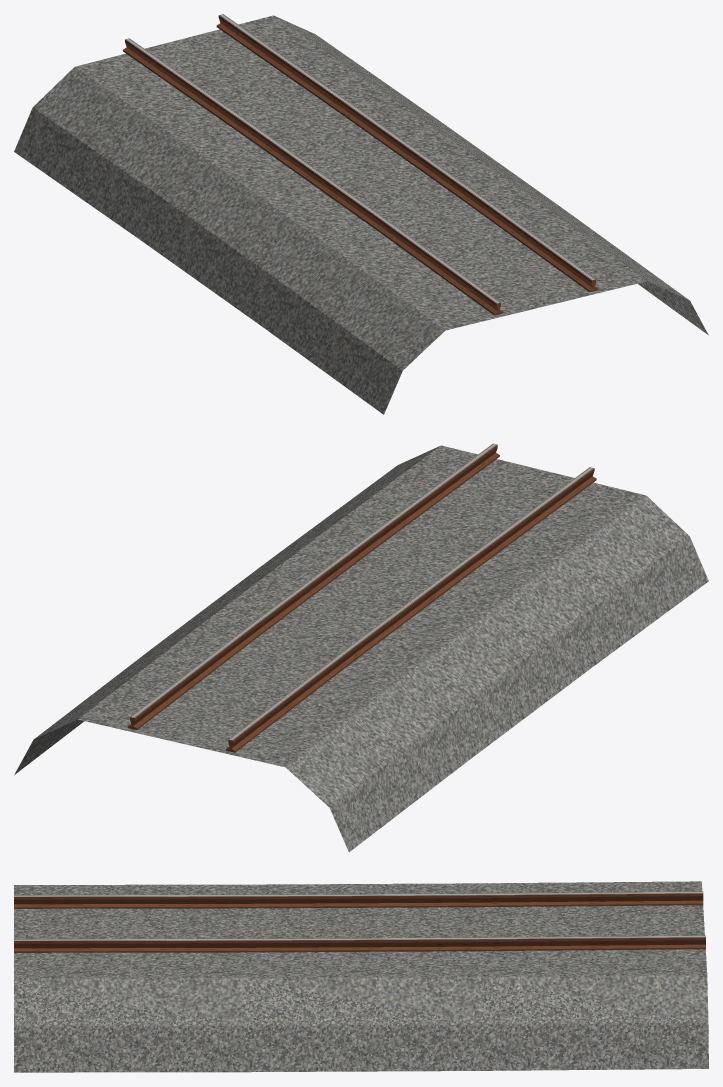
The model's file is rail_track_curve_r400_10m_l_v2_bed.glb.
3 renders of one model, top to bottom at view 1: azimuth 30°, elevation 25°; view 2: azimuth 150°, elevation 25°; view 3: azimuth 270°, elevation 25°, orthographic. The views are drawn at different scales.
Parts seen in each view (by area): view 1: rail_track_curve_r400_10m_l_v2_bed; view 2: rail_track_curve_r400_10m_l_v2_bed; view 3: rail_track_curve_r400_10m_l_v2_bed.
Part boxes in pixels (x1=…): rail_track_curve_r400_10m_l_v2_bed: x1=14, y1=14, x2=708, y2=414; rail_track_curve_r400_10m_l_v2_bed: x1=14, y1=443, x2=708, y2=852; rail_track_curve_r400_10m_l_v2_bed: x1=14, y1=881, x2=708, y2=1072.
Size of what is drawn, in the model's own units: 5.27 by 1.27 by 10.06.
2 materials, 2 textured.
